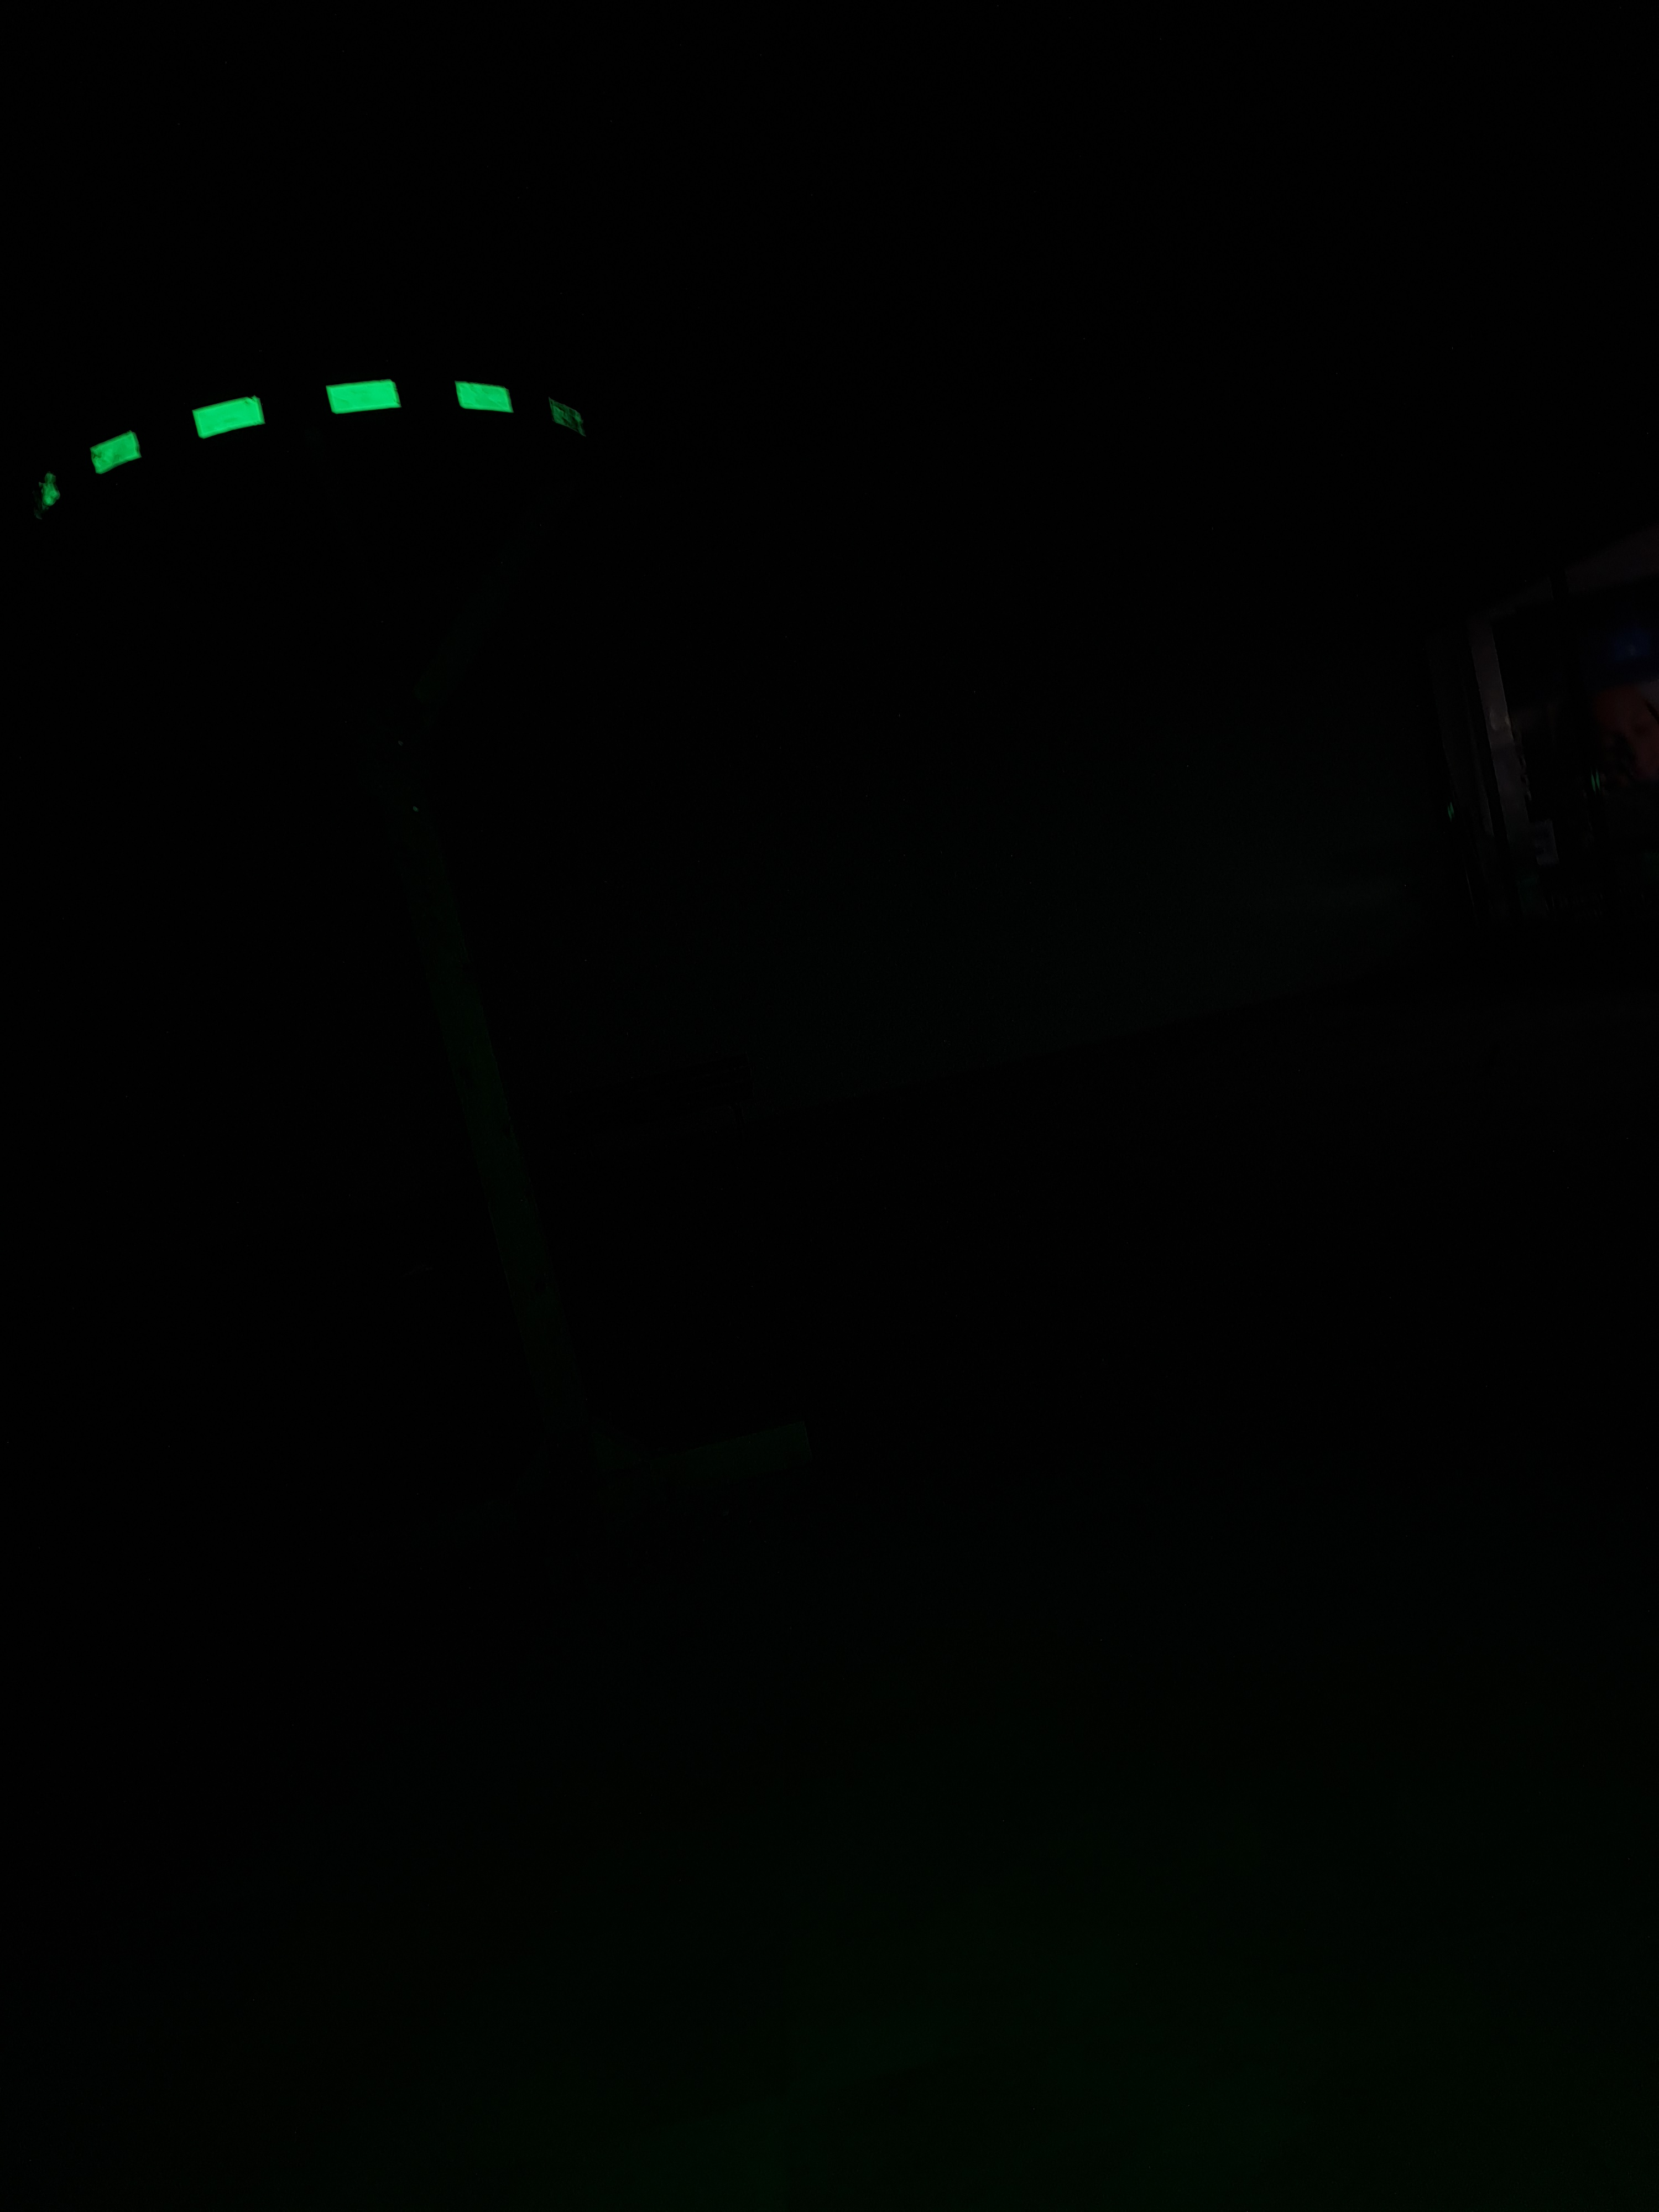hoop: (30, 359, 594, 529)
